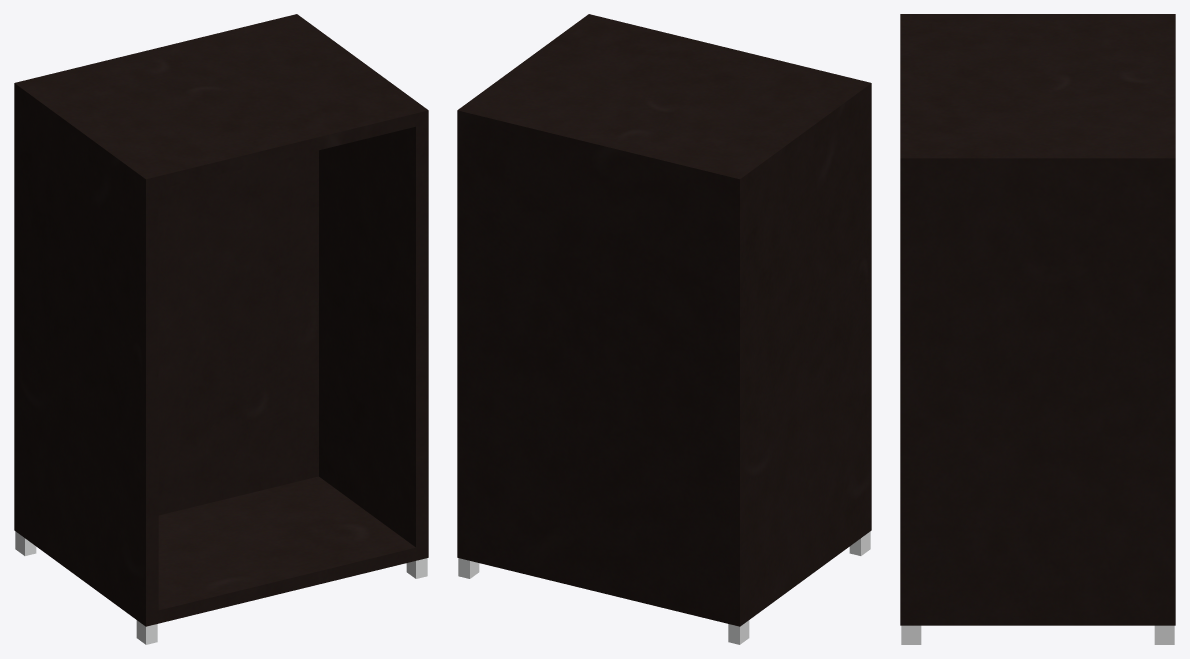
Rendered from set drawer3.FBX.
3 renders of one model, left to right at view 1: azimuth 30°, elevation 25°; view 2: azimuth 150°, elevation 25°; view 3: azimuth 270°, elevation 25°, orthographic. The views are drawn at different scales.
Visible parts, largest first — view 1: set drawer3; view 2: set drawer3; view 3: set drawer3.
Part boxes in pixels (left/top/right/bottom): set drawer3: left=14, top=14, right=428, bottom=644; set drawer3: left=457, top=14, right=871, bottom=644; set drawer3: left=900, top=14, right=1175, bottom=644.
Size of the model in its own units: 69.87 by 110 by 56.34.
1 material, 1 textured.
